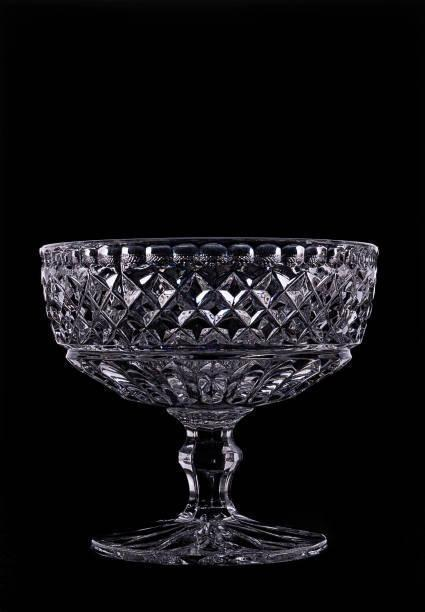glass-wine: (38, 232, 381, 571)
